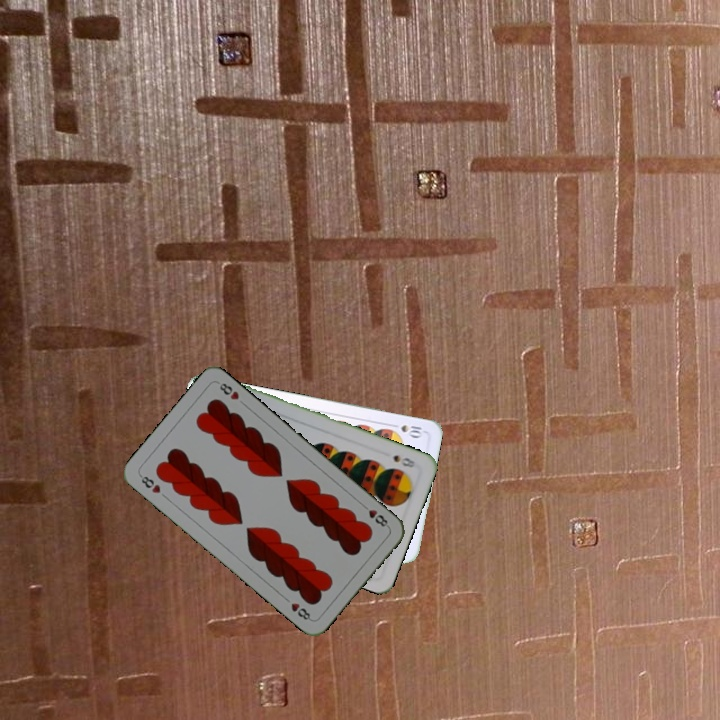H8: (358, 500, 392, 530), (136, 471, 163, 496)
S10: (387, 420, 427, 439)
S8: (389, 451, 418, 470)
